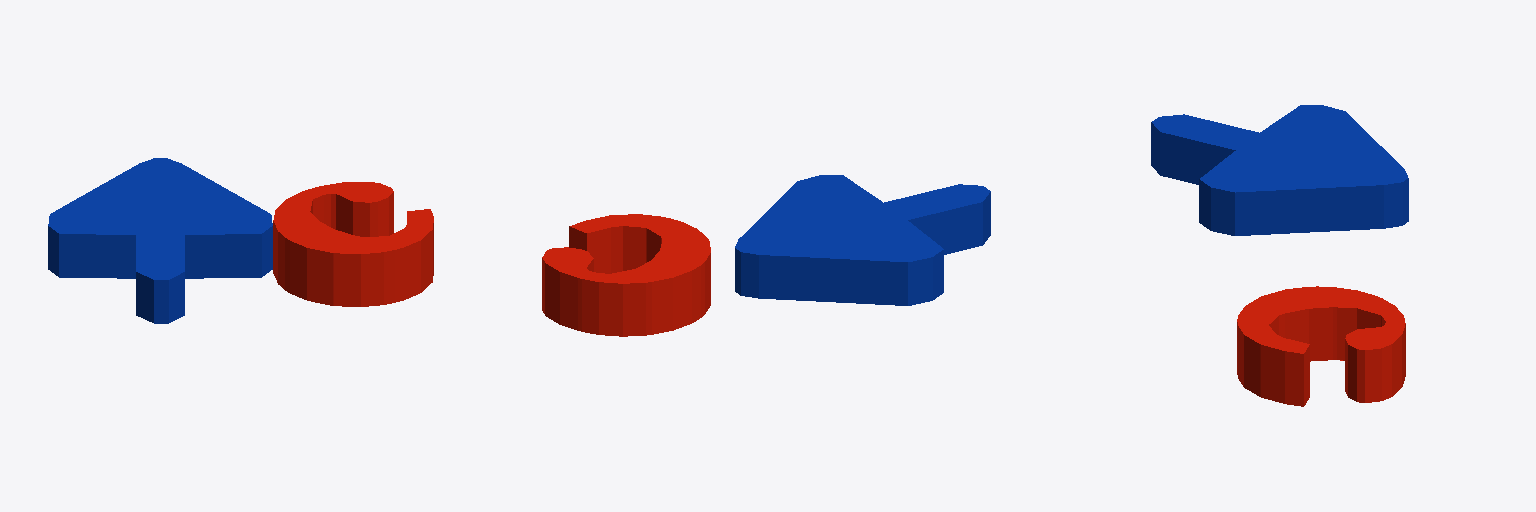
File: postersmall.obj
The picture shows the model from 3 angles: view 1: azimuth 30°, elevation 25°; view 2: azimuth 150°, elevation 25°; view 3: azimuth 270°, elevation 25°; orthographic projection.
Visible parts, largest first — view 1: postermodel_transparent:pCube1, postermodel_transparent:planarTrimmedSurface40; view 2: postermodel_transparent:pCube1, postermodel_transparent:planarTrimmedSurface40; view 3: postermodel_transparent:pCube1, postermodel_transparent:planarTrimmedSurface40.
Part boxes in pixels (bbox=[...]): postermodel_transparent:pCube1: bbox=[48, 158, 272, 323]; postermodel_transparent:planarTrimmedSurface40: bbox=[273, 182, 433, 306]; postermodel_transparent:pCube1: bbox=[735, 175, 990, 305]; postermodel_transparent:planarTrimmedSurface40: bbox=[542, 214, 710, 336]; postermodel_transparent:pCube1: bbox=[1151, 105, 1408, 235]; postermodel_transparent:planarTrimmedSurface40: bbox=[1237, 286, 1405, 406].
Bounding box in the file's own units: 0.2654 × 0.0816 × 0.1584.